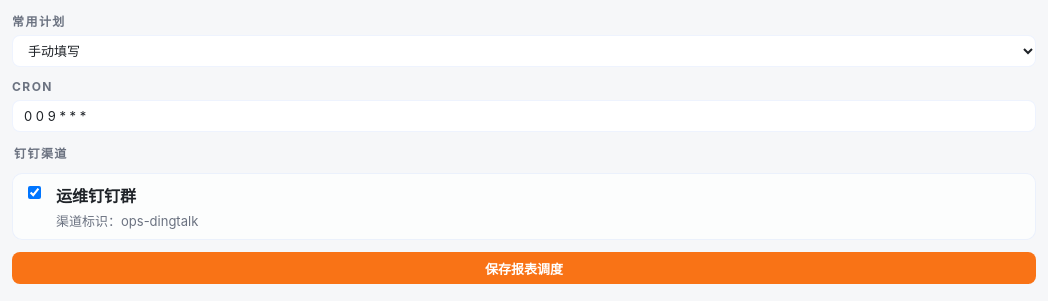
report schedule form › fills cron from preset options
This screenshot has width=1048, height=301.
Select "每天早上 9:30" in the dropdown labelled "常用计划". click: [524, 51]
box: [12,35,1036,67]
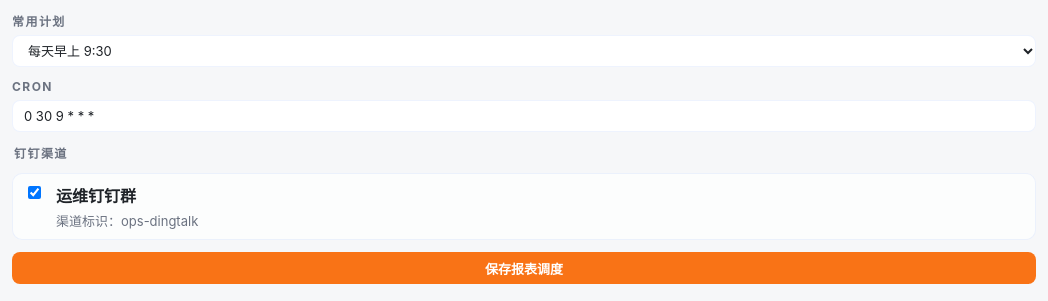
Now the field labelled "Cron" holds "0 30 9 * * *", box [12,100,1036,132]
Select "每周一早上 9:30" in the dropdown labelled "常用计划". click: [524, 51]
box: [12,35,1036,67]
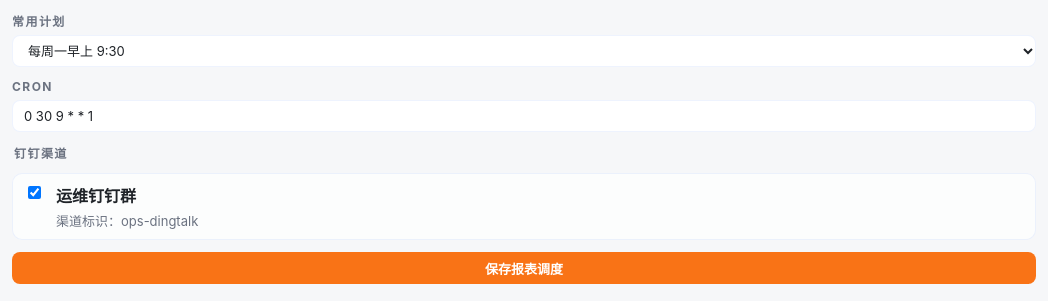
Now the field labelled "Cron" holds "0 30 9 * * 1", box [12,100,1036,132]
Select "工作日早上 9:30" in the dropdown labelled "常用计划". click: [524, 51]
box: [12,35,1036,67]
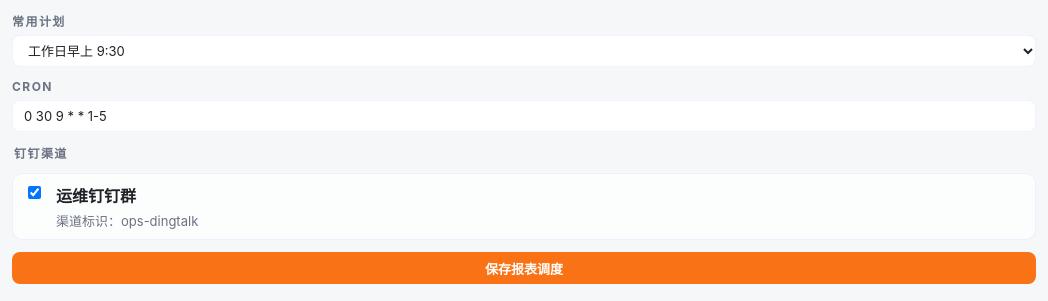
Now the field labelled "Cron" holds "0 30 9 * * 1-5", box [12,100,1036,132]
